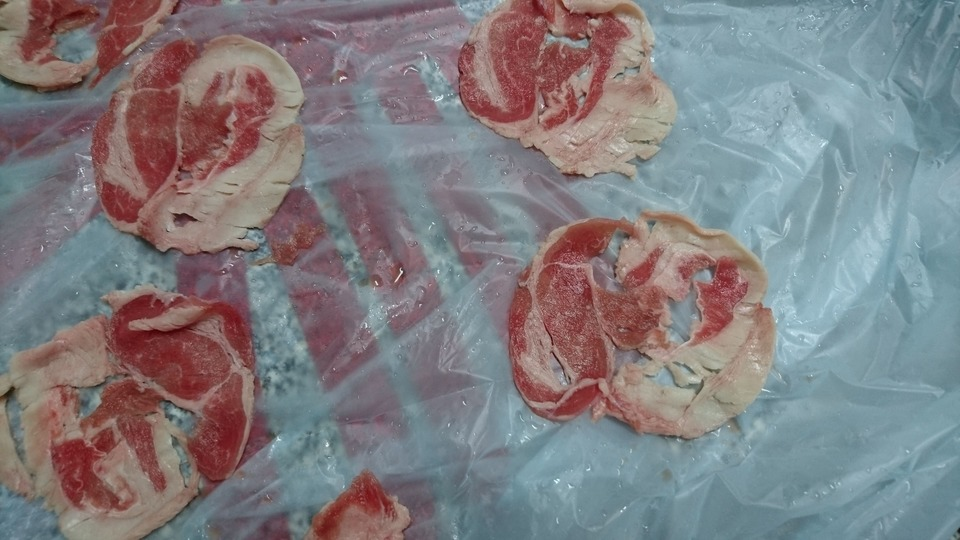restructured meat: (1, 293, 274, 540), (501, 203, 778, 435), (85, 31, 315, 263), (443, 1, 682, 185)
